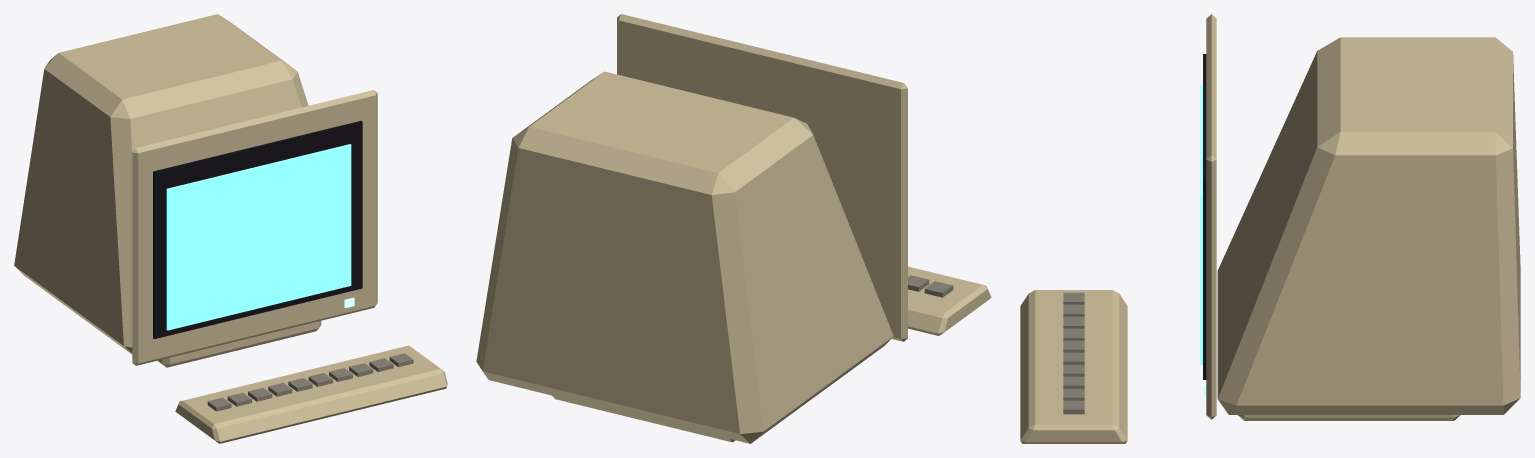
File: computer_old.glb
3 views of the same model, side by side, from view 1: azimuth 30°, elevation 25°; view 2: azimuth 150°, elevation 25°; view 3: azimuth 270°, elevation 25° (orthographic). The views are drawn at different scales.
Visible parts, largest first — view 1: computer_old; view 2: computer_old; view 3: computer_old.
Part boxes in pixels (x1=…): computer_old: x1=14, y1=14, x2=447, y2=443; computer_old: x1=476, y1=14, x2=991, y2=443; computer_old: x1=1020, y1=14, x2=1520, y2=443.
Size of the model in its own units: 0.4 by 0.375 by 0.5818.
